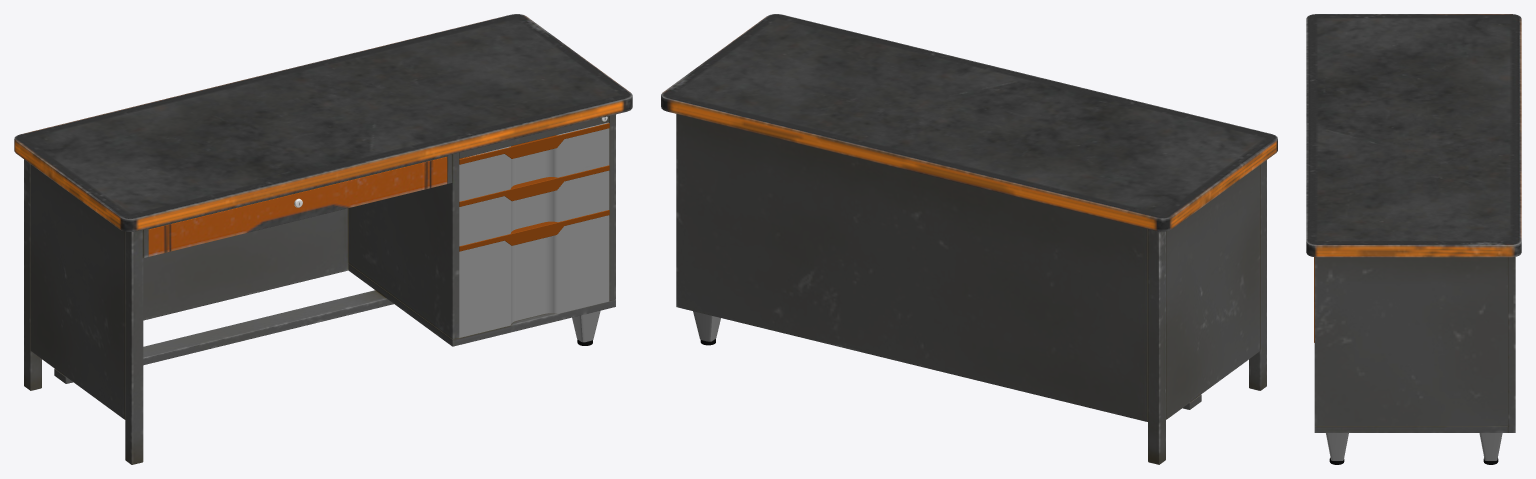
Rendered from futuristic_desk.glb.
3 views of the same model, side by side, from view 1: azimuth 30°, elevation 25°; view 2: azimuth 150°, elevation 25°; view 3: azimuth 270°, elevation 25° (orthographic). The views are drawn at different scales.
Visible parts, largest first — view 1: pCylinder1; view 2: pCylinder1; view 3: pCylinder1.
Part boxes in pixels (x1=…): pCylinder1: x1=14, y1=14, x2=632, y2=464; pCylinder1: x1=661, y1=14, x2=1277, y2=464; pCylinder1: x1=1306, y1=14, x2=1521, y2=464.
Bounding box in the file's own units: 0.4297 × 0.2009 × 0.1689.
Materials: 1 (1 with a texture image).
